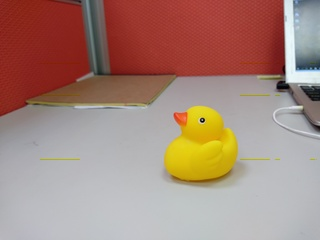duck: (152, 104, 244, 184)
